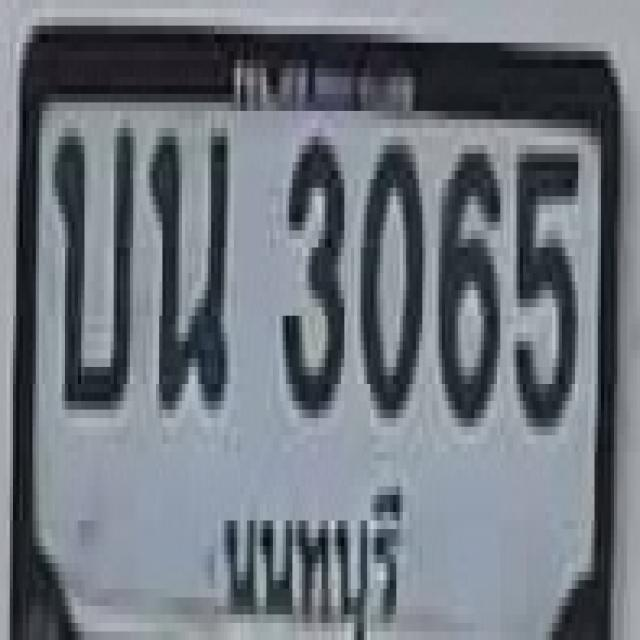0: (357, 136, 419, 410)
3: (280, 128, 341, 410)
5: (513, 145, 575, 418)
6: (435, 145, 497, 418)
A25: (150, 124, 224, 405)
A26: (52, 120, 130, 401)
NBI: (217, 461, 407, 636)
